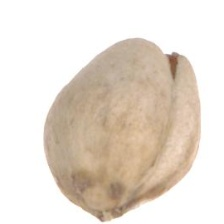L1: (143, 36, 184, 80), (87, 204, 137, 222)
L2: (42, 37, 201, 222)
